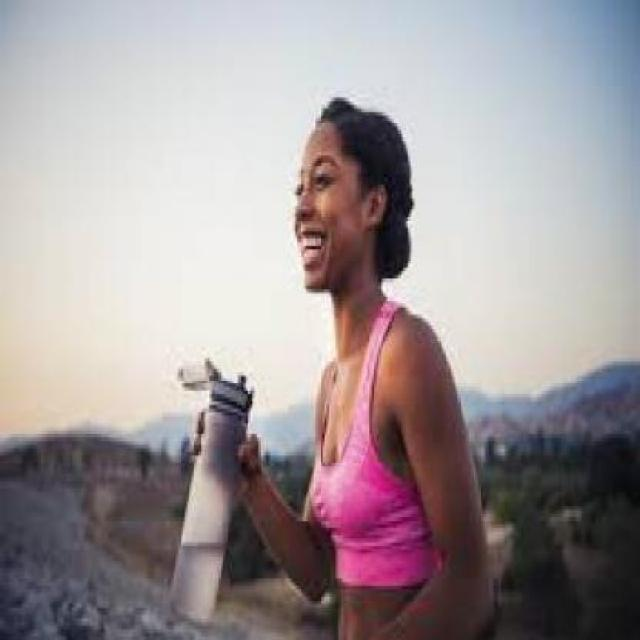Drinking: (168, 362, 260, 616)
